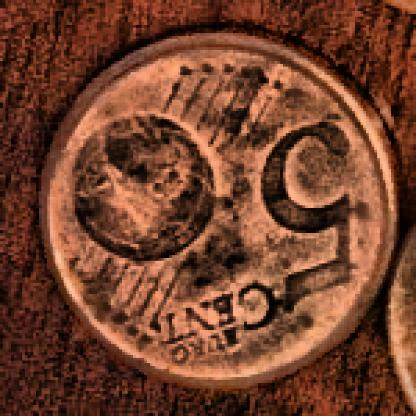coin: (37, 28, 398, 390)
